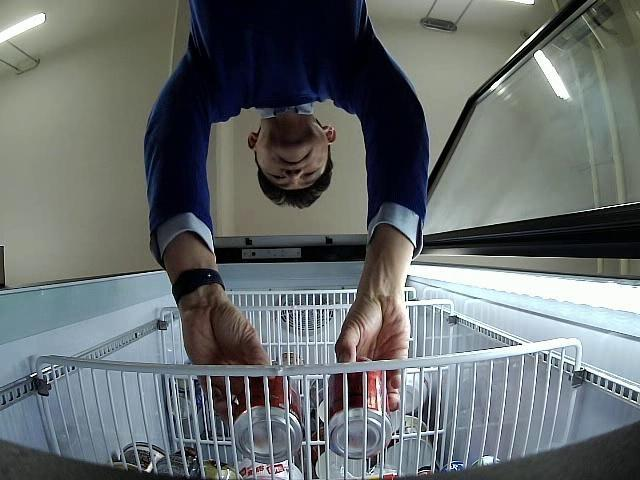11_cocaColaZero: (329, 356, 393, 460), (232, 376, 302, 464)
